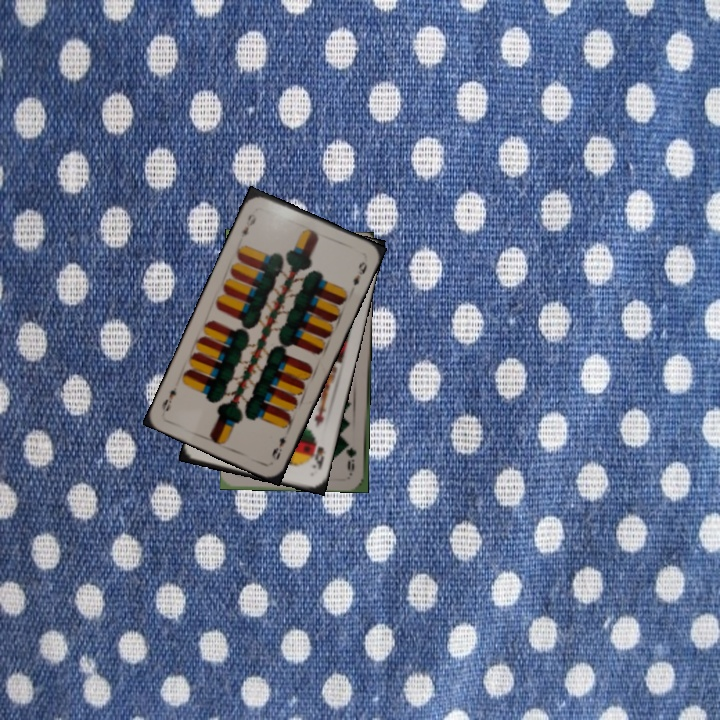E9: (267, 432, 290, 463), (237, 209, 259, 240)
G9: (344, 437, 359, 476)
SK: (307, 434, 329, 472)
